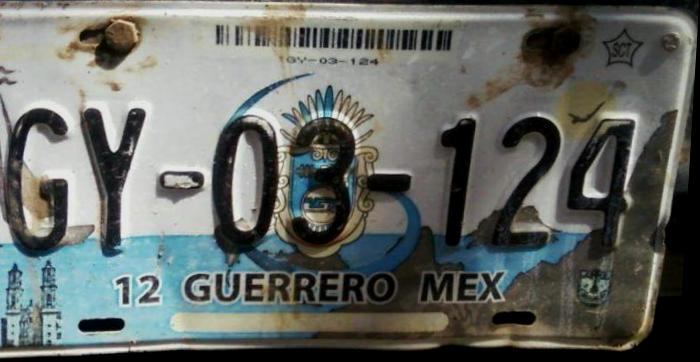License_Plate: (0, 2, 673, 353)
